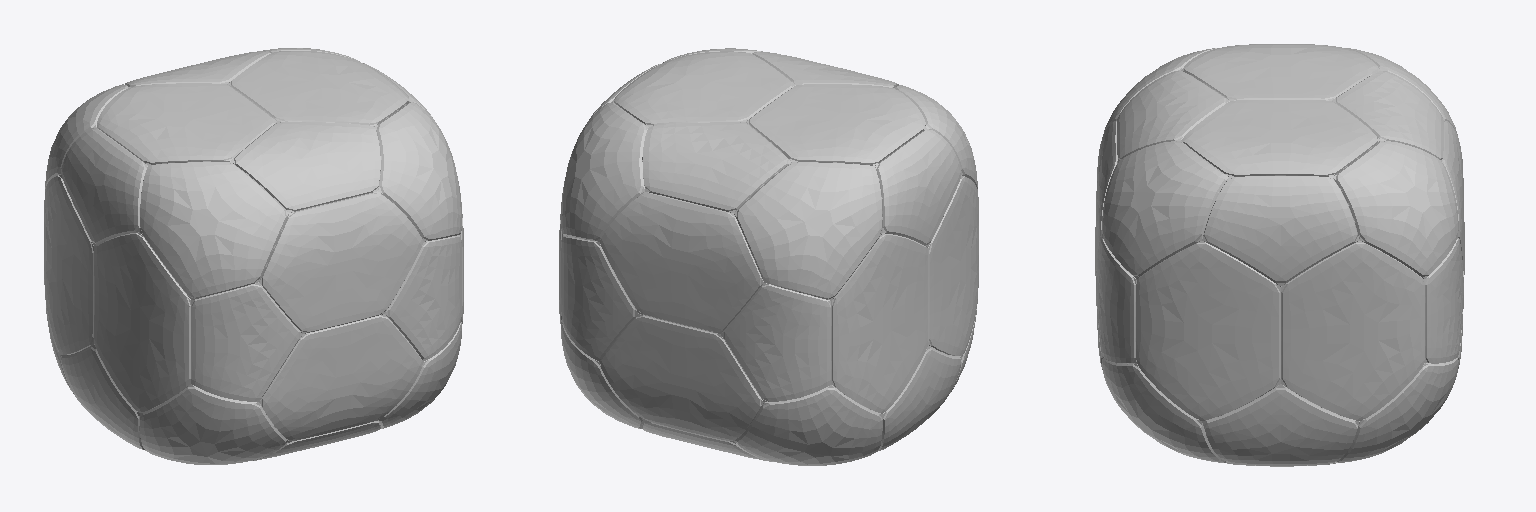
File: football final.obj
3 renders of one model, left to right at view 1: azimuth 30°, elevation 25°; view 2: azimuth 150°, elevation 25°; view 3: azimuth 270°, elevation 25°, orthographic.
Parts seen in each view (by area): view 1: Foot_ball; view 2: Foot_ball; view 3: Foot_ball.
Part boxes in pixels (x1,y1,x2,y2): Foot_ball: (44, 48, 463, 464); Foot_ball: (559, 48, 978, 465); Foot_ball: (1095, 44, 1464, 466).
Size of the model in its own units: 21.55 by 19.78 by 21.19.